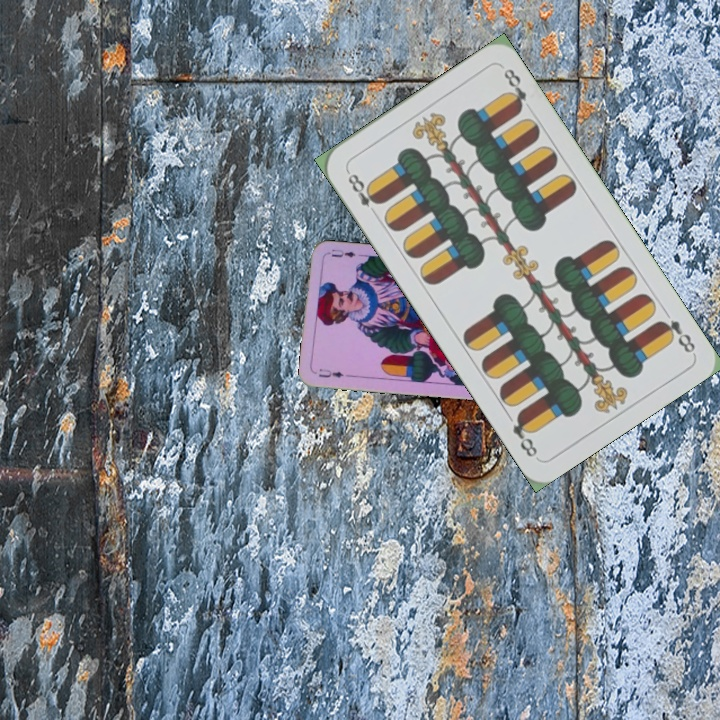E8: (342, 166, 384, 219), (654, 315, 698, 356)
EU: (314, 364, 354, 381)
